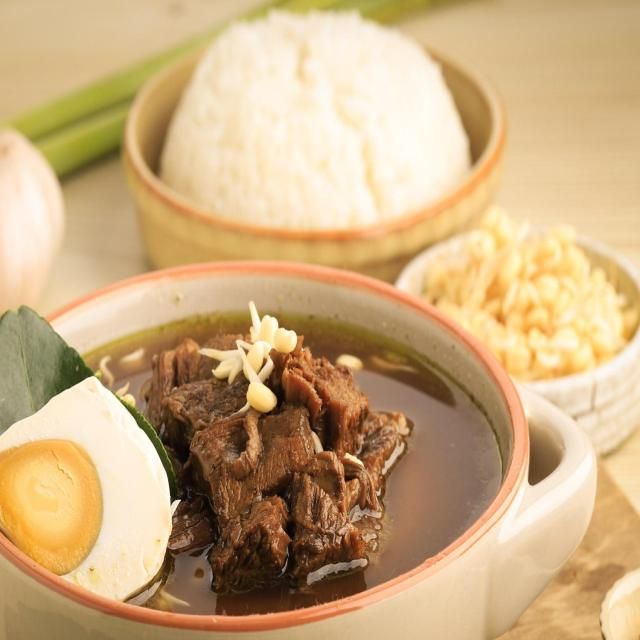Rawon: (73, 302, 491, 583)
